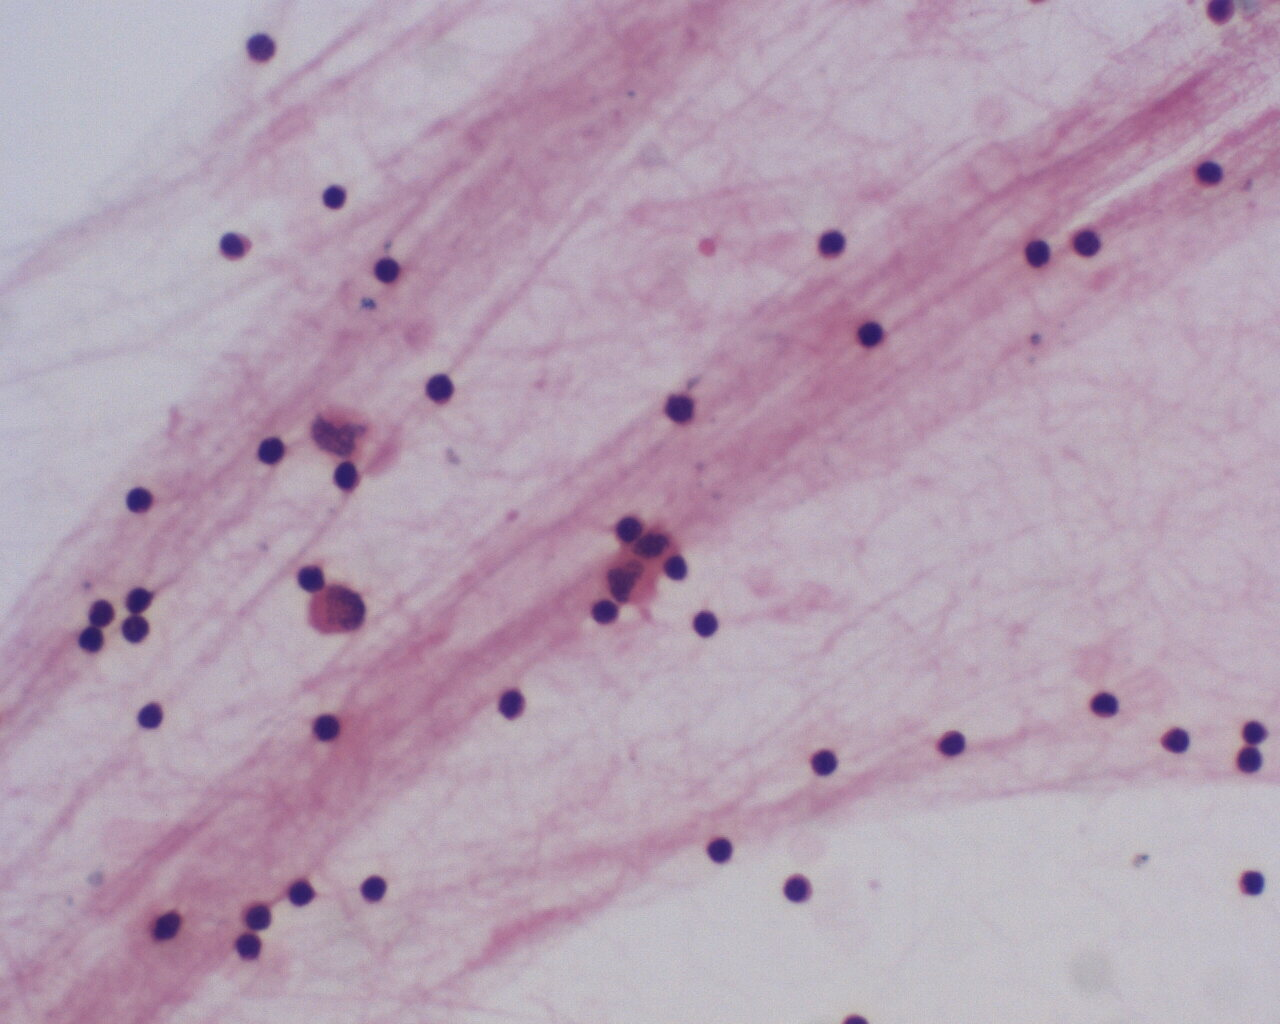ab: (302, 587, 364, 639)
lymph: (933, 722, 973, 764), (286, 874, 322, 913), (661, 389, 696, 429), (132, 699, 167, 736), (254, 435, 290, 470), (121, 483, 156, 518), (1020, 239, 1057, 272), (358, 875, 393, 909), (702, 833, 736, 868), (1160, 724, 1196, 757), (315, 180, 351, 211), (816, 225, 846, 261), (807, 747, 839, 781), (691, 606, 723, 639), (370, 251, 402, 283), (857, 317, 884, 352), (313, 713, 345, 742), (781, 872, 810, 903), (499, 688, 528, 718)
